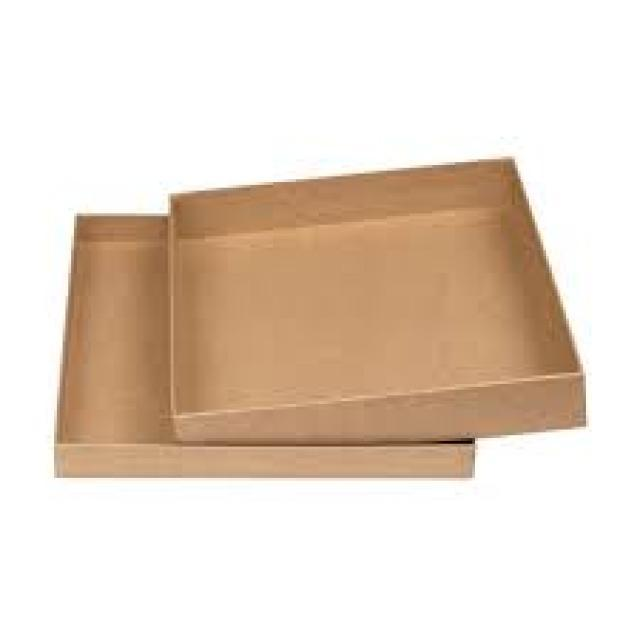Cardboard: (54, 155, 586, 487)
